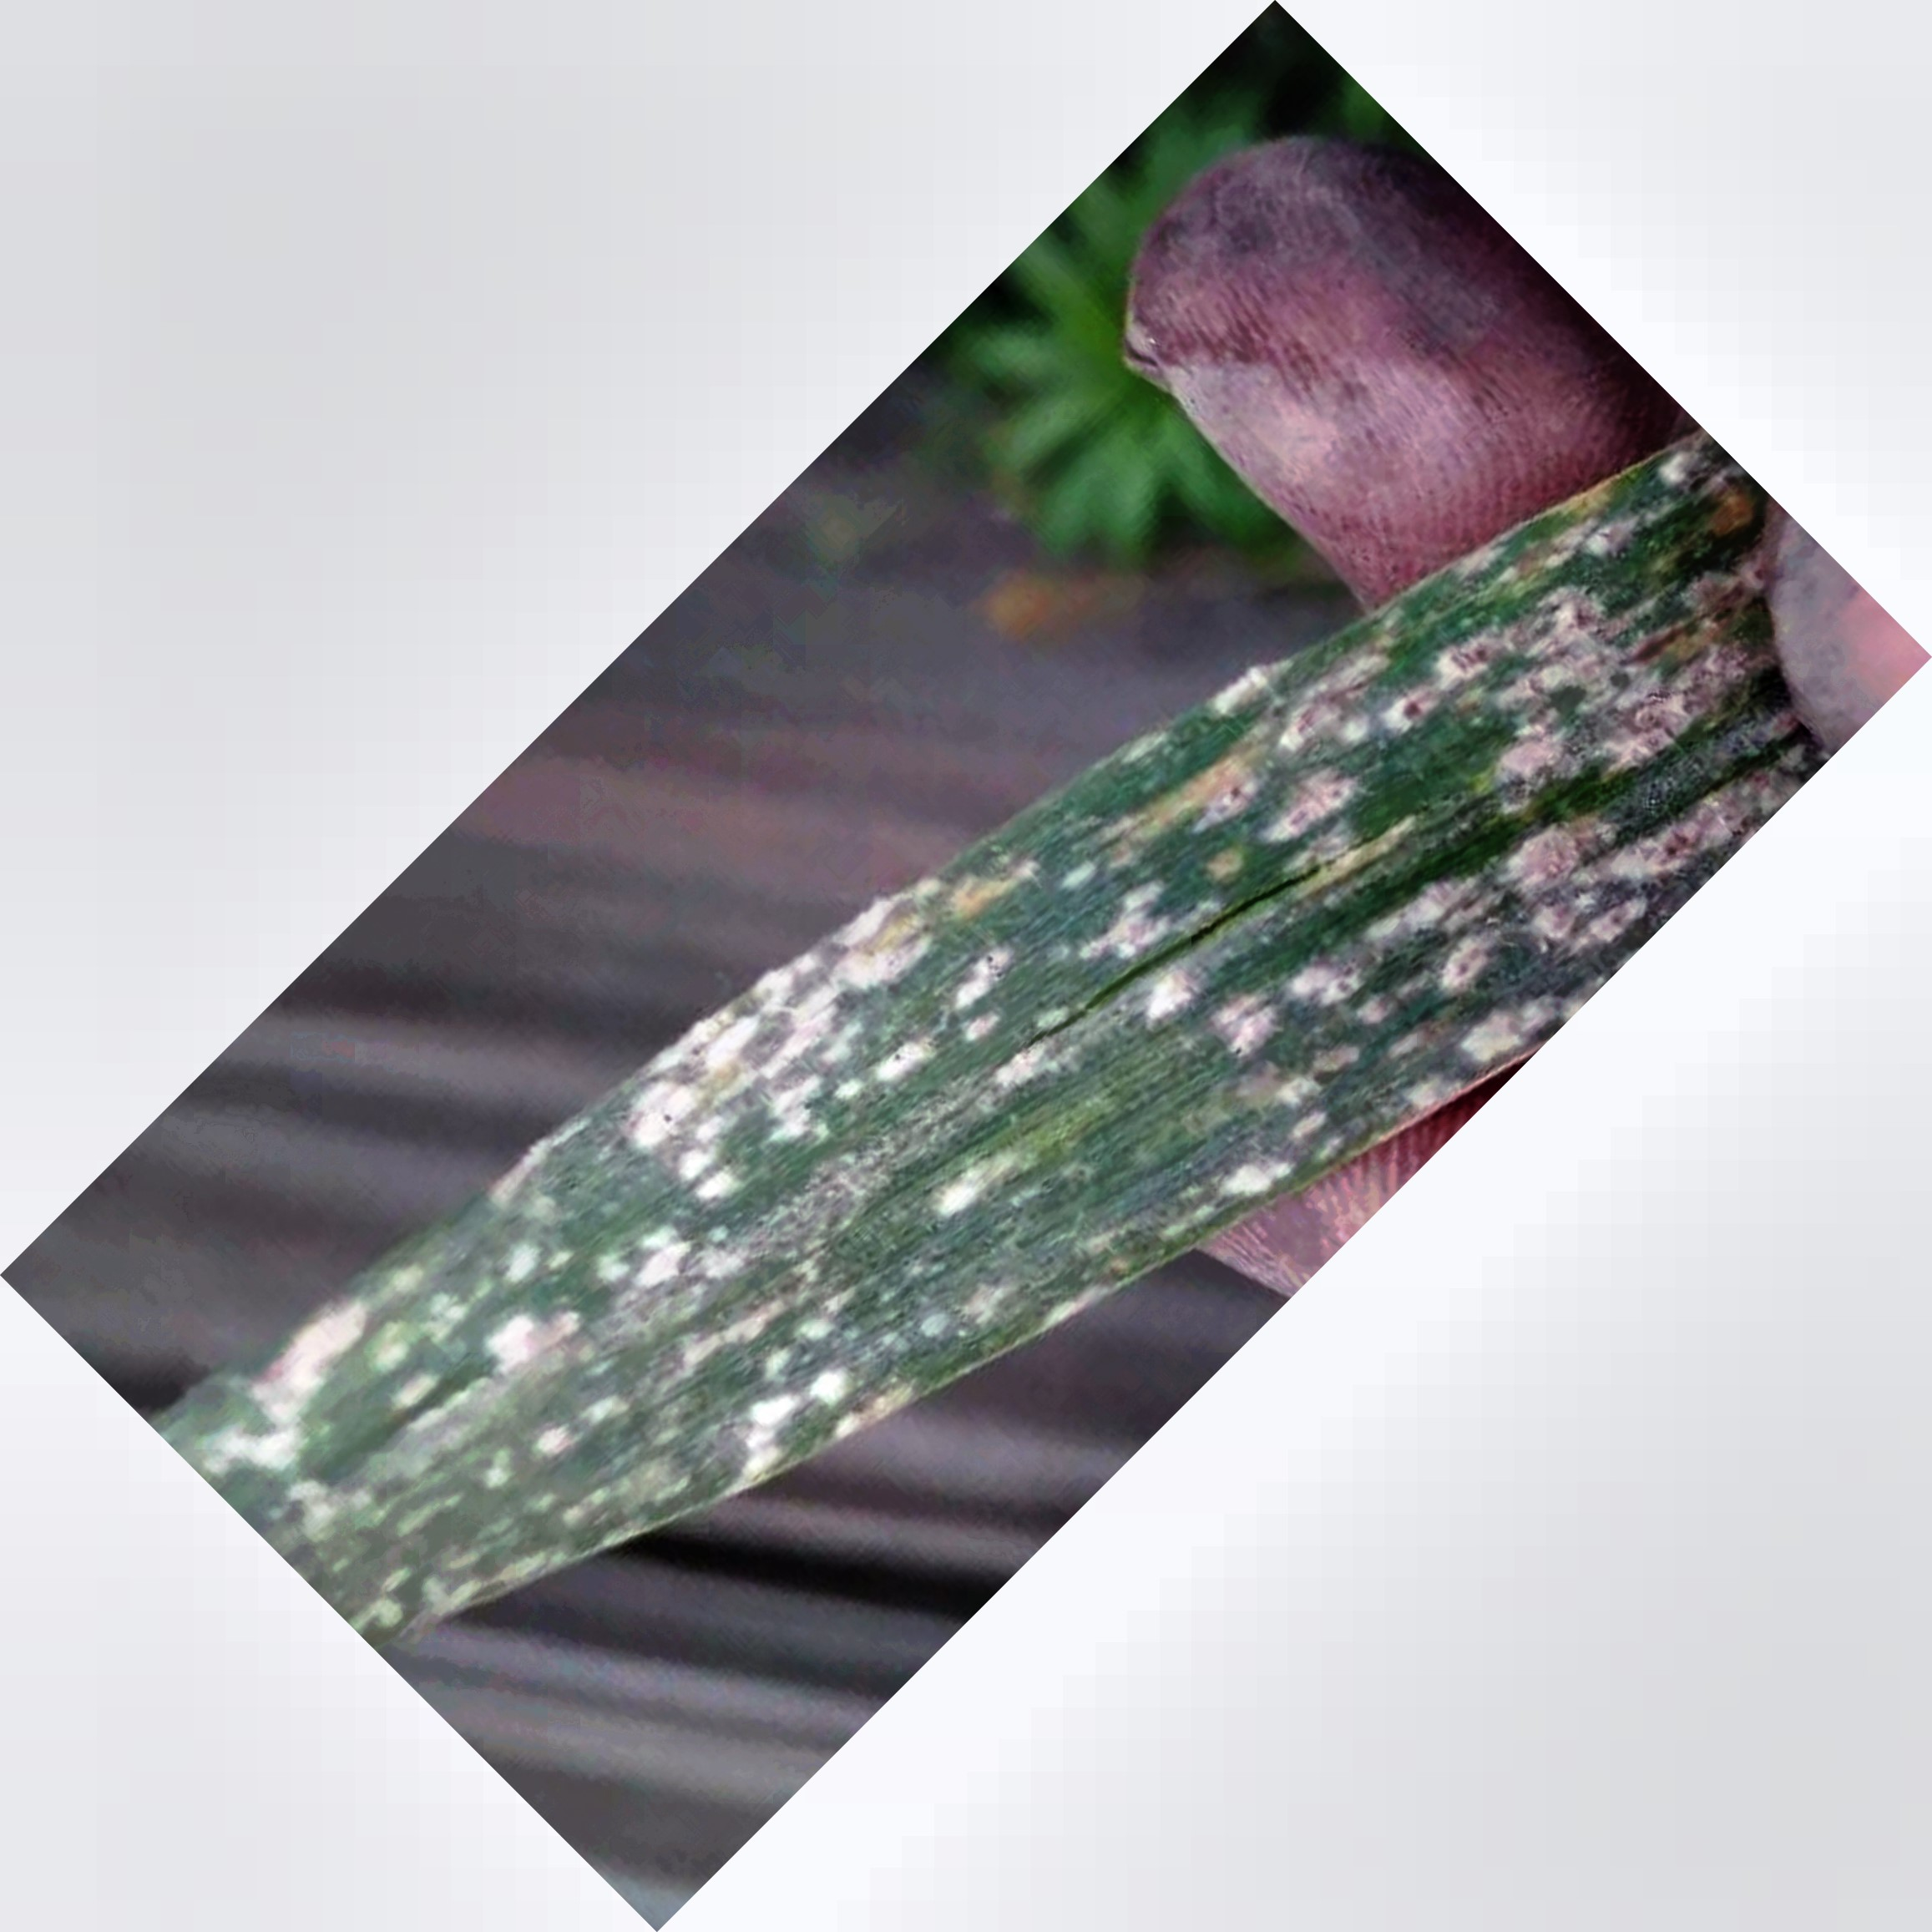Powdery Mildew: (425, 483, 1727, 1522)
